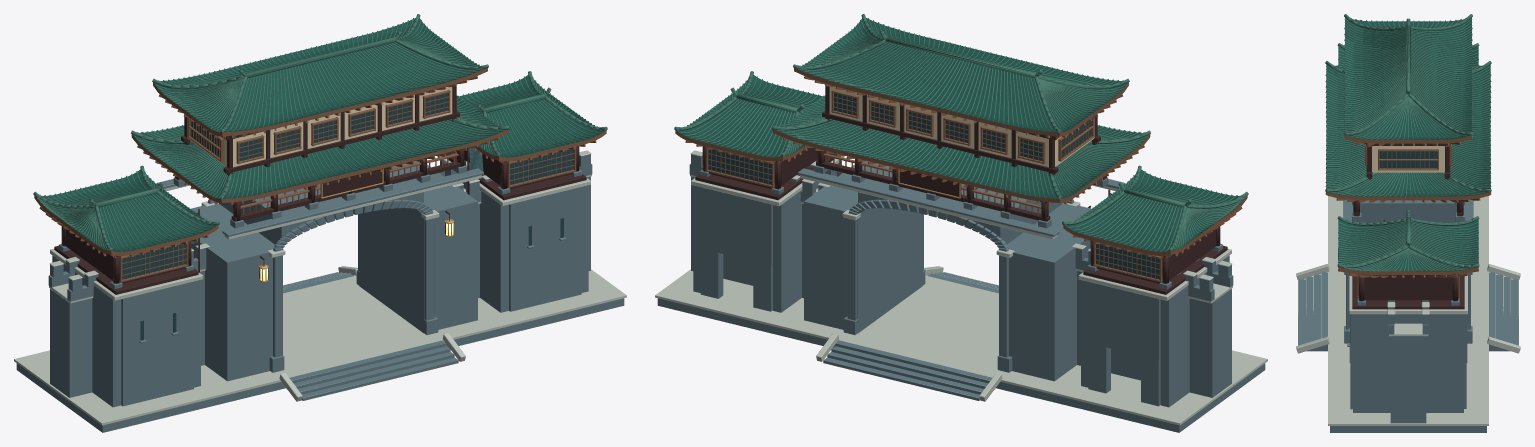
The model's file is sect_gate.glb.
3 views of the same model, side by side, from view 1: azimuth 30°, elevation 25°; view 2: azimuth 150°, elevation 25°; view 3: azimuth 270°, elevation 25° (orthographic). The views are drawn at different scales.
Parts seen in each view (by area): view 1: GateNear_Stone, GateNear_Jade, GateNear_TileLight, GateNear_Coping, GateNear_Cedar, GateNear_Timber, GateNear_Window, GateNear_Plaster; view 2: GateNear_Stone, GateNear_Jade, GateNear_TileLight, GateNear_Coping, GateNear_Cedar, GateNear_Timber, GateNear_Window, GateNear_Plaster; view 3: GateNear_TileLight, GateNear_Jade, GateNear_Stone, GateNear_Coping, GateNear_Timber, GateNear_Cedar, GateNear_Window, GateNear_Plaster.
Part boxes in pixels (left/top/right/bottom): GateNear_Stone: left=16, top=153, right=624, bottom=432; GateNear_Jade: left=38, top=18, right=605, bottom=252; GateNear_TileLight: left=33, top=14, right=607, bottom=251; GateNear_Coping: left=14, top=150, right=626, bottom=425; GateNear_Cedar: left=34, top=68, right=606, bottom=282; GateNear_Timber: left=54, top=84, right=586, bottom=294; GateNear_Window: left=122, top=93, right=573, bottom=340; GateNear_Plaster: left=187, top=87, right=452, bottom=167; GateNear_Stone: left=657, top=154, right=1265, bottom=432; GateNear_Jade: left=676, top=18, right=1243, bottom=252; GateNear_TileLight: left=674, top=14, right=1248, bottom=251; GateNear_Coping: left=655, top=150, right=1267, bottom=425; GateNear_Cedar: left=675, top=28, right=1247, bottom=282; GateNear_Timber: left=695, top=84, right=1227, bottom=294; GateNear_Window: left=708, top=93, right=1159, bottom=279; GateNear_Plaster: left=829, top=87, right=1094, bottom=167; GateNear_TileLight: left=1325, top=14, right=1491, bottom=271; GateNear_Jade: left=1326, top=18, right=1490, bottom=271; GateNear_Stone: left=1298, top=199, right=1518, bottom=432; GateNear_Coping: left=1296, top=196, right=1520, bottom=425; GateNear_Timber: left=1338, top=143, right=1464, bottom=309; GateNear_Cedar: left=1325, top=27, right=1491, bottom=298; GateNear_Window: left=1350, top=151, right=1437, bottom=344; GateNear_Plaster: left=1372, top=146, right=1444, bottom=172.
Bounding box in the file's own units: 31 × 16.23 × 12.56.
